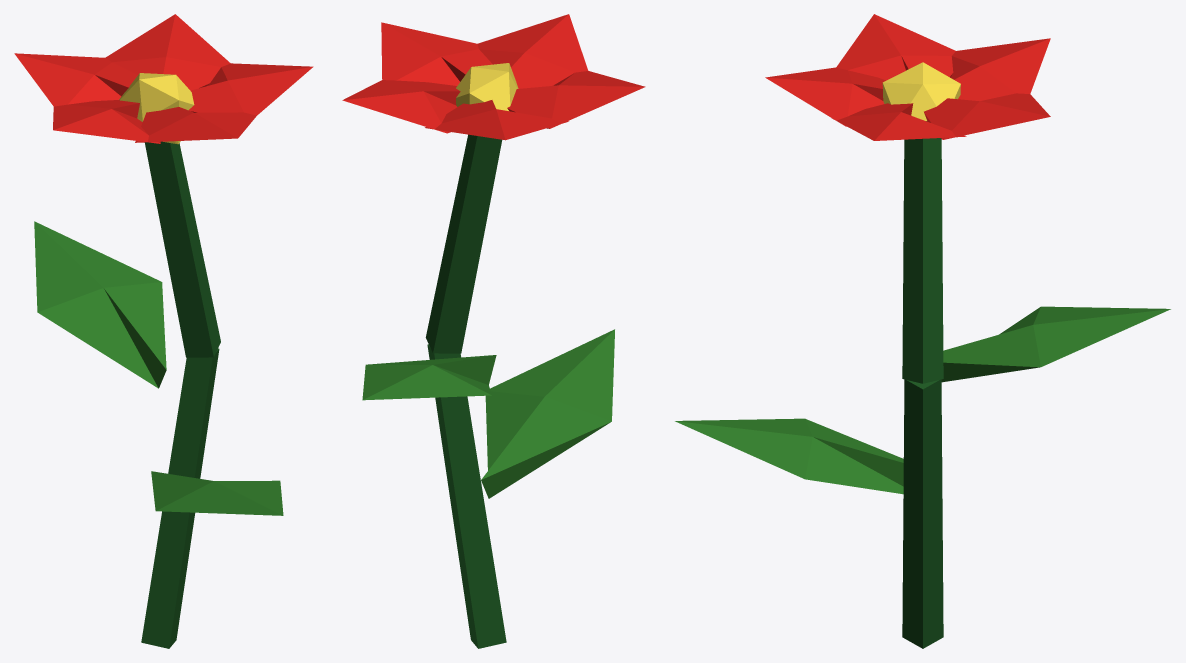
File: flower_red.glb
3 views of the same model, side by side, from view 1: azimuth 30°, elevation 25°; view 2: azimuth 150°, elevation 25°; view 3: azimuth 270°, elevation 25° (orthographic).
Parts seen in each view (by area): view 1: flower_red, leaf, leaf_dark, flower_center; view 2: flower_red, leaf, leaf_dark, flower_center; view 3: leaf_dark, flower_red, leaf, flower_center.
Part boxes in pixels (x1,y1,x2,y2): flower_red: [14, 14, 313, 143]; leaf: [34, 221, 283, 515]; leaf_dark: [141, 141, 220, 648]; flower_center: [119, 73, 194, 144]; flower_red: [342, 14, 645, 140]; leaf: [362, 329, 614, 498]; leaf_dark: [425, 134, 506, 648]; flower_center: [456, 63, 518, 110]; leaf_dark: [902, 138, 943, 648]; flower_red: [765, 14, 1050, 140]; leaf: [675, 306, 1170, 494]; flower_center: [882, 62, 960, 121].
Size of the model in its own units: 0.2919 by 0.609 by 0.483.
